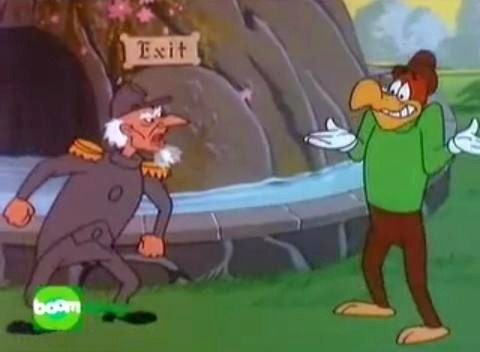urubu: (298, 41, 479, 346)
